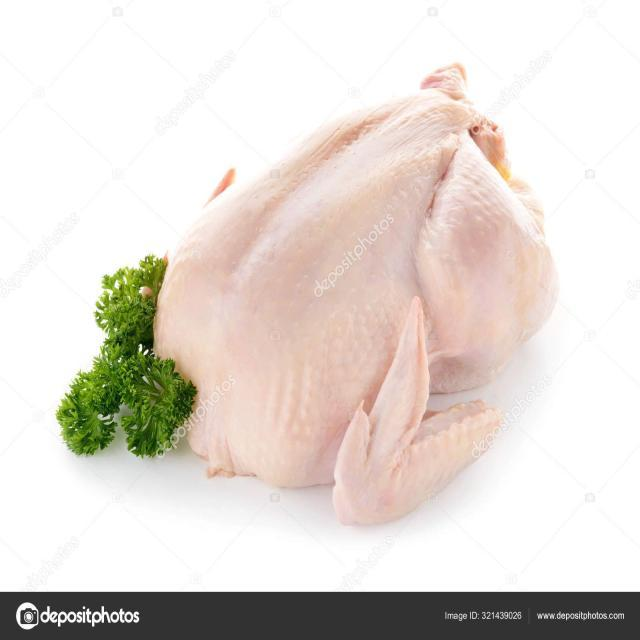Chicken: (132, 57, 576, 530)
